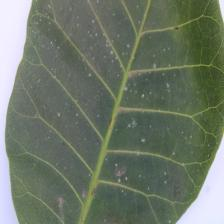red rust: (4, 0, 224, 224)
